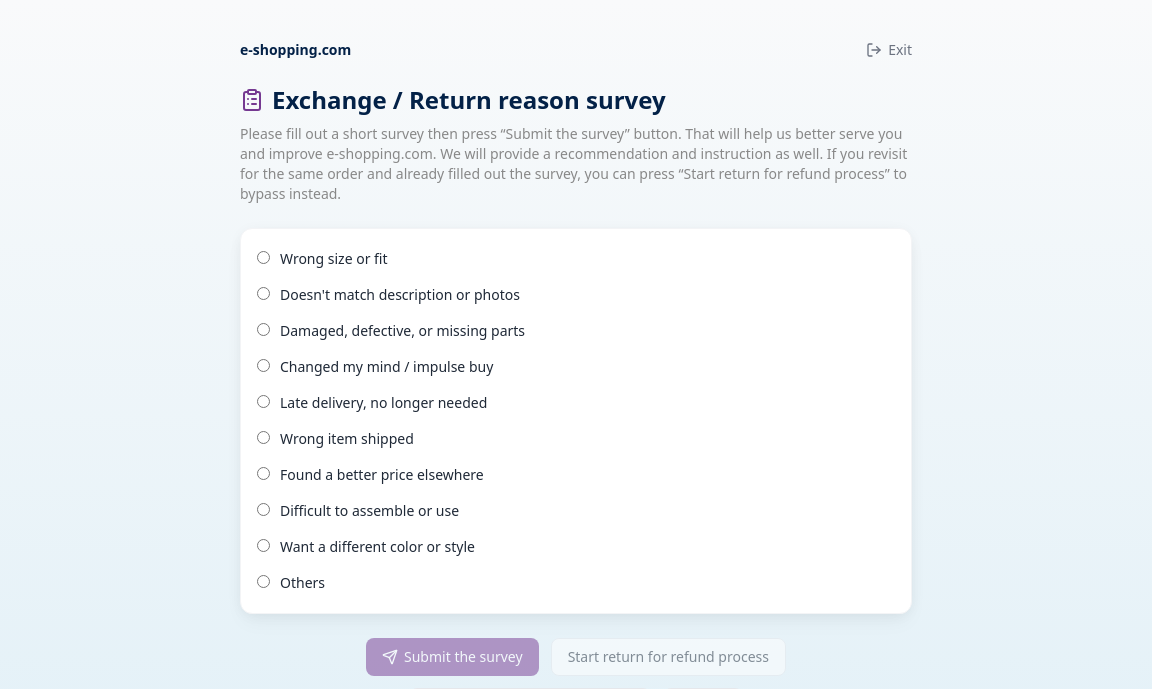
Scenario: ExchangeReturnPage › submits the survey, shows the recommendation, and gates the bypass button
This screenshot has width=1152, height=689.
Expected: the button "Start return for refund process" is disabled, [551,638,786,676]
Expected: the button "Submit the survey" is disabled, [366,638,539,676]
Step 1. Click the radio button labelled "Wrong size or fit" → (264, 258), box [257,251,270,264]
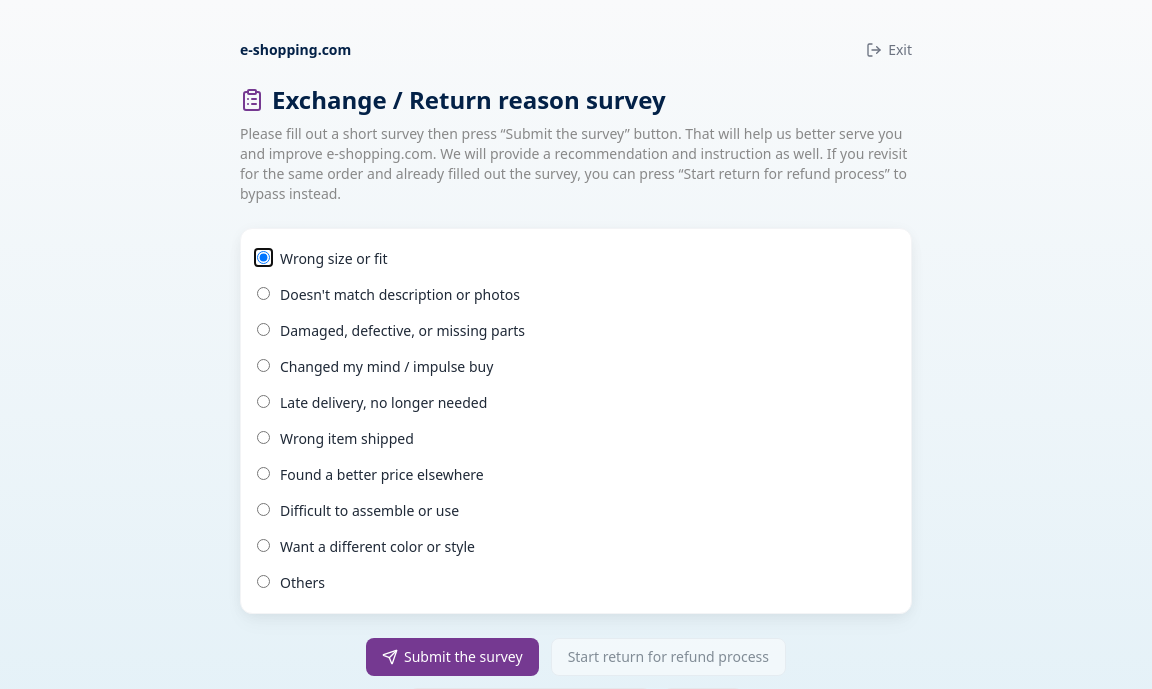
Step 2. Click the button "Submit the survey" → (452, 657), box [366,638,539,676]
(page scrolled)
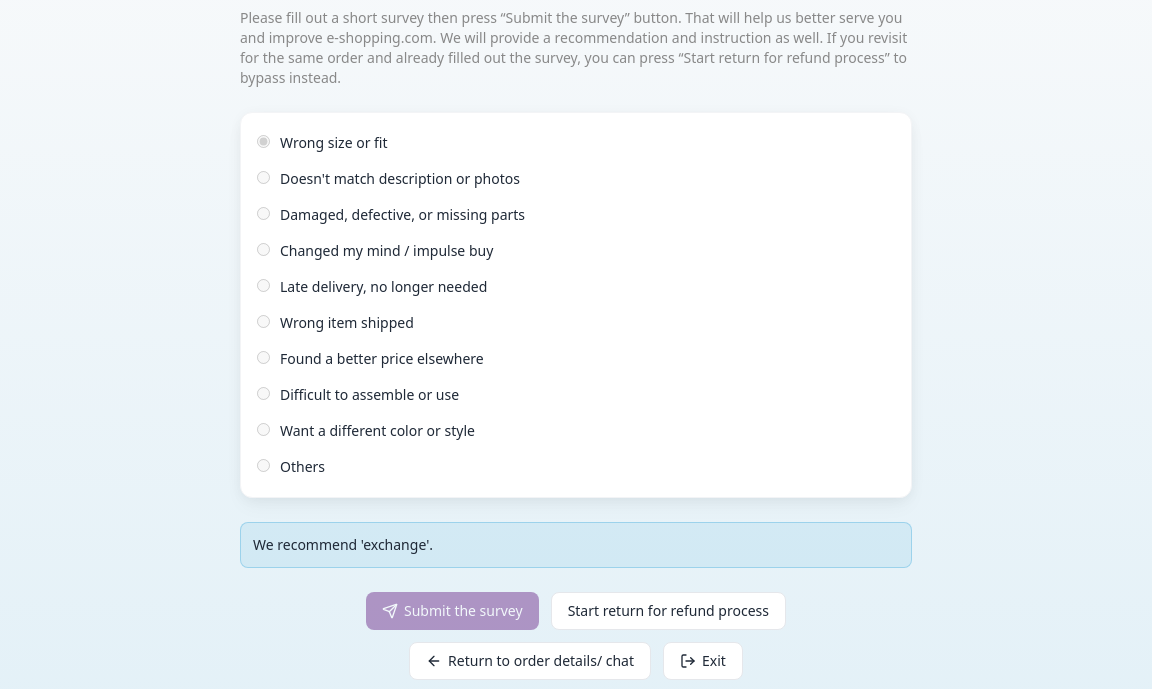
Result: the text "We recommend 'exchange'." is shown at [240,522,912,568]
Result: the button "Start return for refund process" is enabled at [551,592,786,630]
Result: the button "Submit the survey" is disabled at [366,592,539,630]
